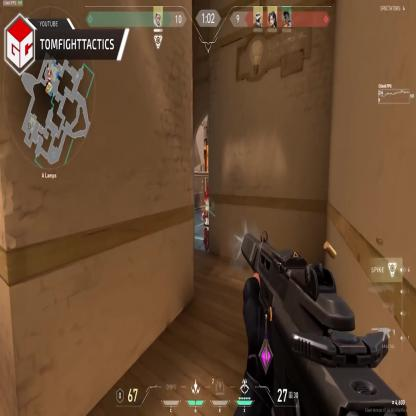enemy: (201, 199, 215, 254)
enemy_head: (205, 200, 212, 212)
